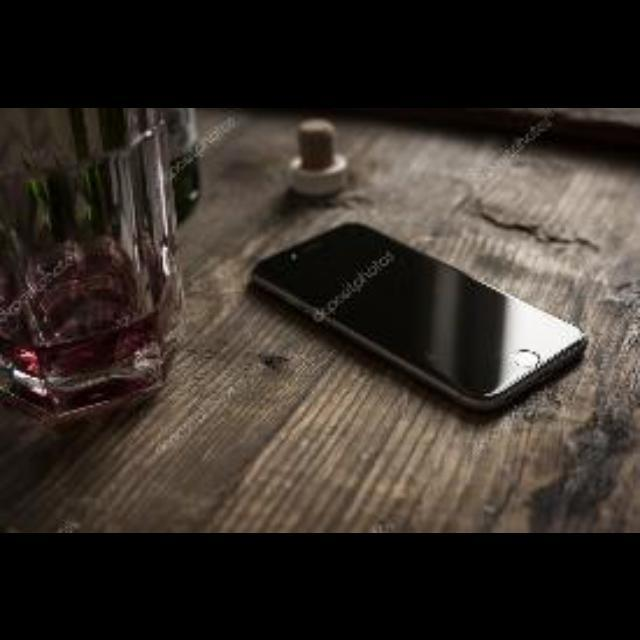Phone: (232, 220, 568, 412)
